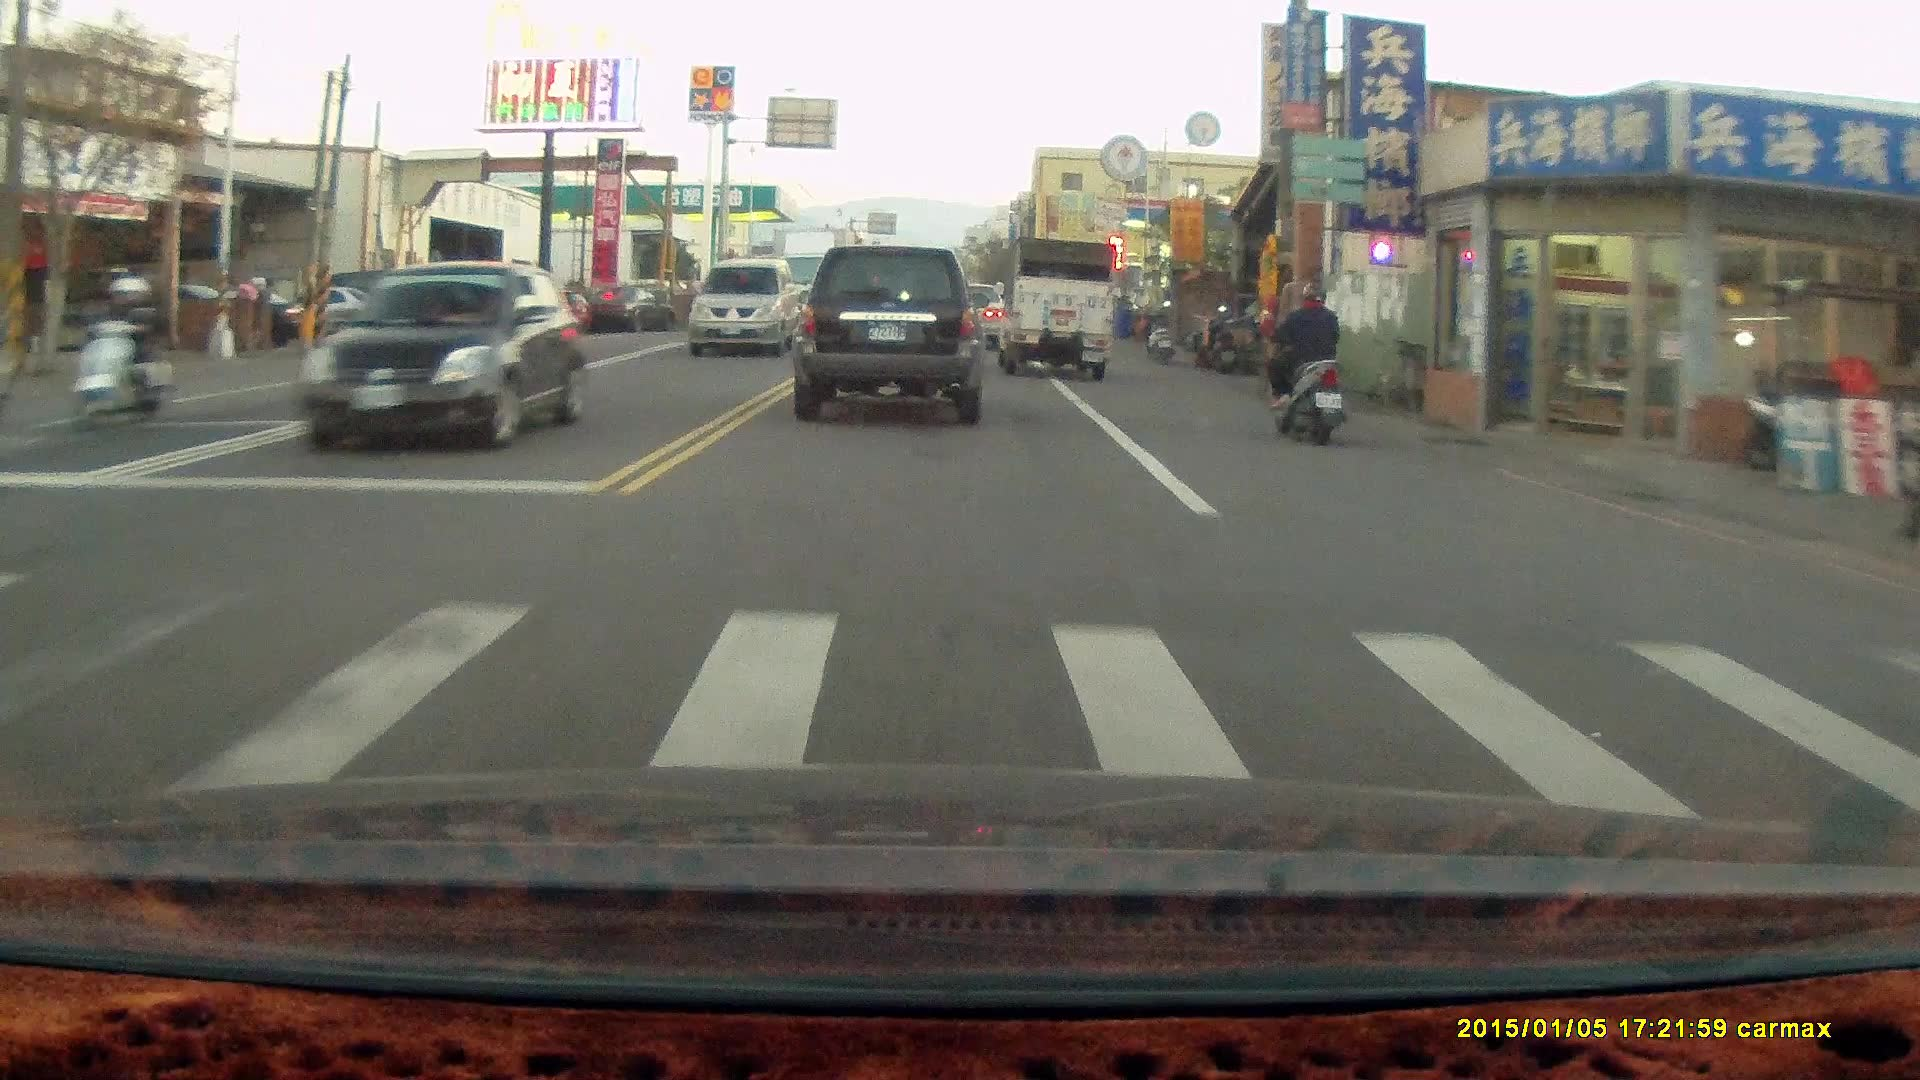rider: (59, 273, 181, 432), (1256, 275, 1349, 443)
vehicle: (301, 263, 589, 450), (790, 245, 985, 425), (994, 237, 1116, 382), (690, 259, 806, 358), (447, 285, 574, 356)
